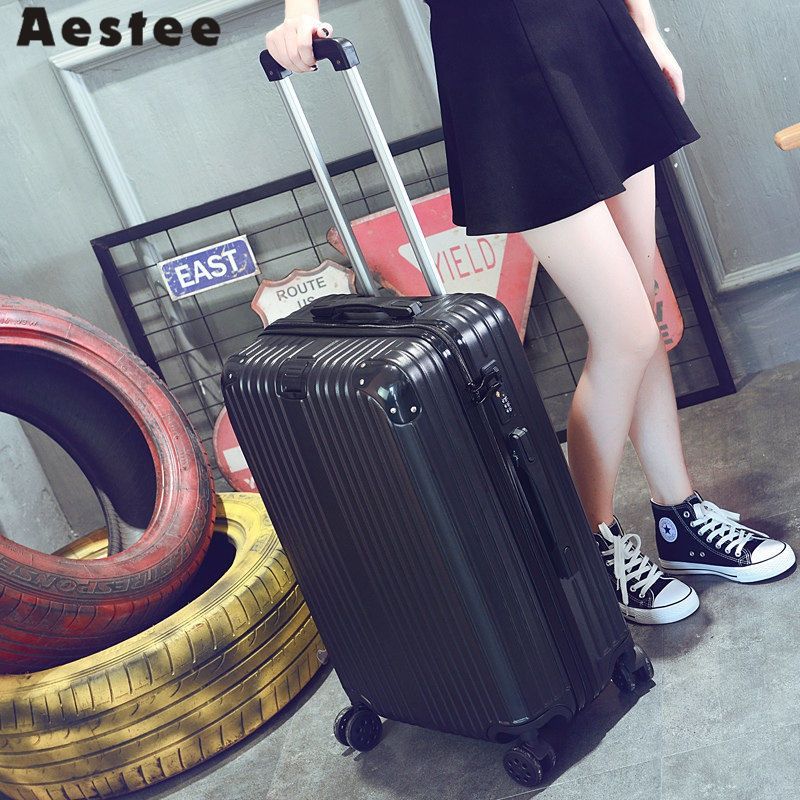box: (221, 293, 635, 742)
handle: (506, 426, 581, 579), (309, 296, 423, 319)
lock: (468, 359, 517, 426)
wheel: (504, 736, 557, 787), (333, 707, 383, 752), (611, 643, 655, 692)
